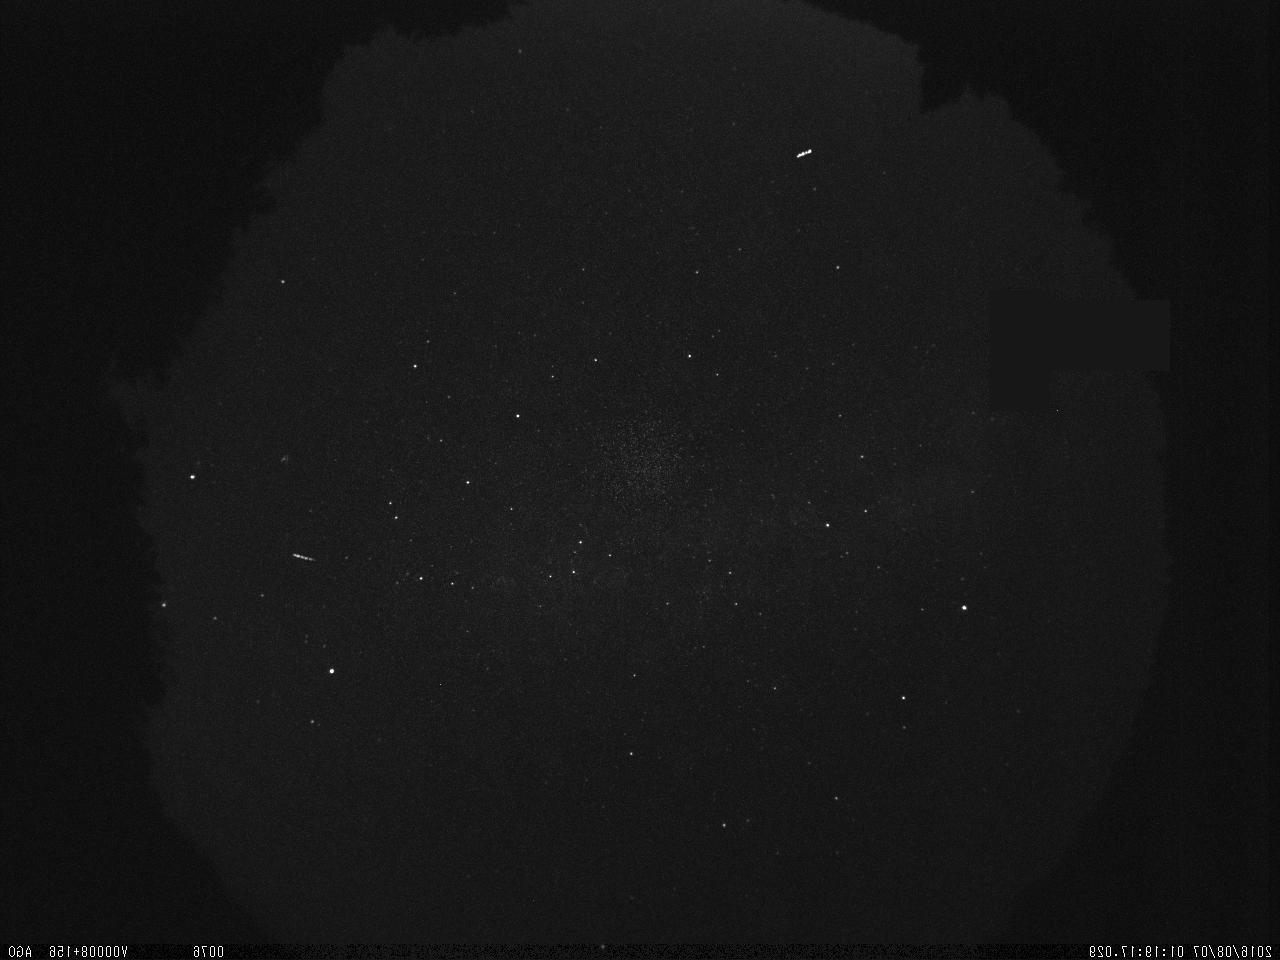meteor: (288, 548, 316, 566)
satelite: (789, 144, 819, 169)
